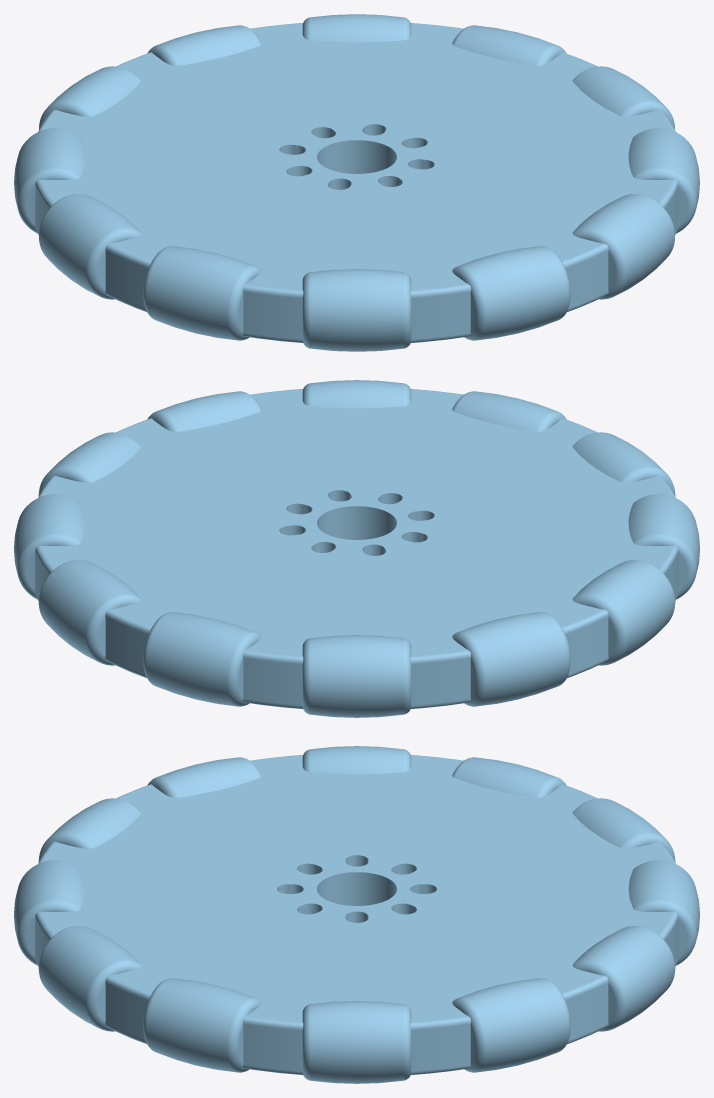
3 views of the same model, one above another, from view 1: azimuth 30°, elevation 25°; view 2: azimuth 150°, elevation 25°; view 3: azimuth 270°, elevation 25° (orthographic).
Parts seen in each view (by area): view 1: mesh39, mesh72, mesh83, mesh73, mesh74, mesh82, mesh81, mesh75, mesh78, mesh124, mesh132, mesh77 (+18 smaller); view 2: mesh39, mesh80, mesh79, mesh81, mesh78, mesh82, mesh77, mesh83, mesh74, mesh188, mesh196, mesh75 (+18 smaller); view 3: mesh39, mesh76, mesh75, mesh77, mesh78, mesh74, mesh79, mesh73, mesh82, mesh156, mesh164, mesh81 (+18 smaller).
Part boxes in pixels (x1,y1,x2,y2): mesh39: [41, 23, 672, 290]; mesh72: [310, 269, 403, 351]; mesh83: [147, 246, 254, 340]; mesh73: [459, 246, 566, 340]; mesh74: [573, 194, 674, 294]; mesh82: [39, 194, 140, 295]; mesh81: [14, 128, 85, 207]; mesh75: [628, 128, 699, 207]; mesh78: [310, 14, 403, 42]; mesh124: [411, 292, 470, 339]; mesh132: [243, 292, 302, 339]; mesh77: [455, 25, 555, 65]; mesh39: [41, 389, 672, 656]; mesh80: [310, 635, 403, 717]; mesh79: [147, 612, 254, 706]; mesh81: [459, 612, 566, 706]; mesh78: [39, 560, 140, 661]; mesh82: [573, 560, 674, 661]; mesh77: [14, 494, 85, 573]; mesh83: [628, 494, 699, 573]; mesh74: [310, 380, 403, 408]; mesh188: [243, 658, 302, 705]; mesh196: [411, 658, 470, 705]; mesh75: [158, 391, 258, 431]; mesh39: [41, 755, 672, 1022]; mesh76: [310, 1001, 403, 1083]; mesh75: [147, 978, 254, 1072]; mesh77: [459, 978, 566, 1072]; mesh78: [573, 926, 674, 1027]; mesh74: [39, 926, 140, 1027]; mesh79: [628, 860, 699, 939]; mesh73: [14, 860, 85, 939]; mesh82: [310, 746, 403, 774]; mesh156: [243, 1024, 302, 1071]; mesh164: [411, 1024, 470, 1071]; mesh81: [455, 757, 555, 797].
Size of the model in its own units: 0.12 by 0.0145 by 0.12.
